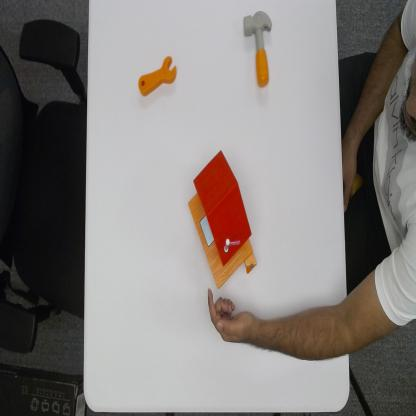Arm: (263, 239, 416, 365)
Hammer: (242, 10, 274, 90)
Hand: (206, 284, 264, 350)
House: (187, 146, 259, 288)
Screwdriver: (137, 53, 178, 98)
